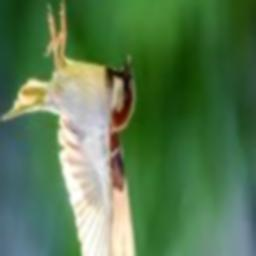Sparrow: (1, 0, 138, 256)
